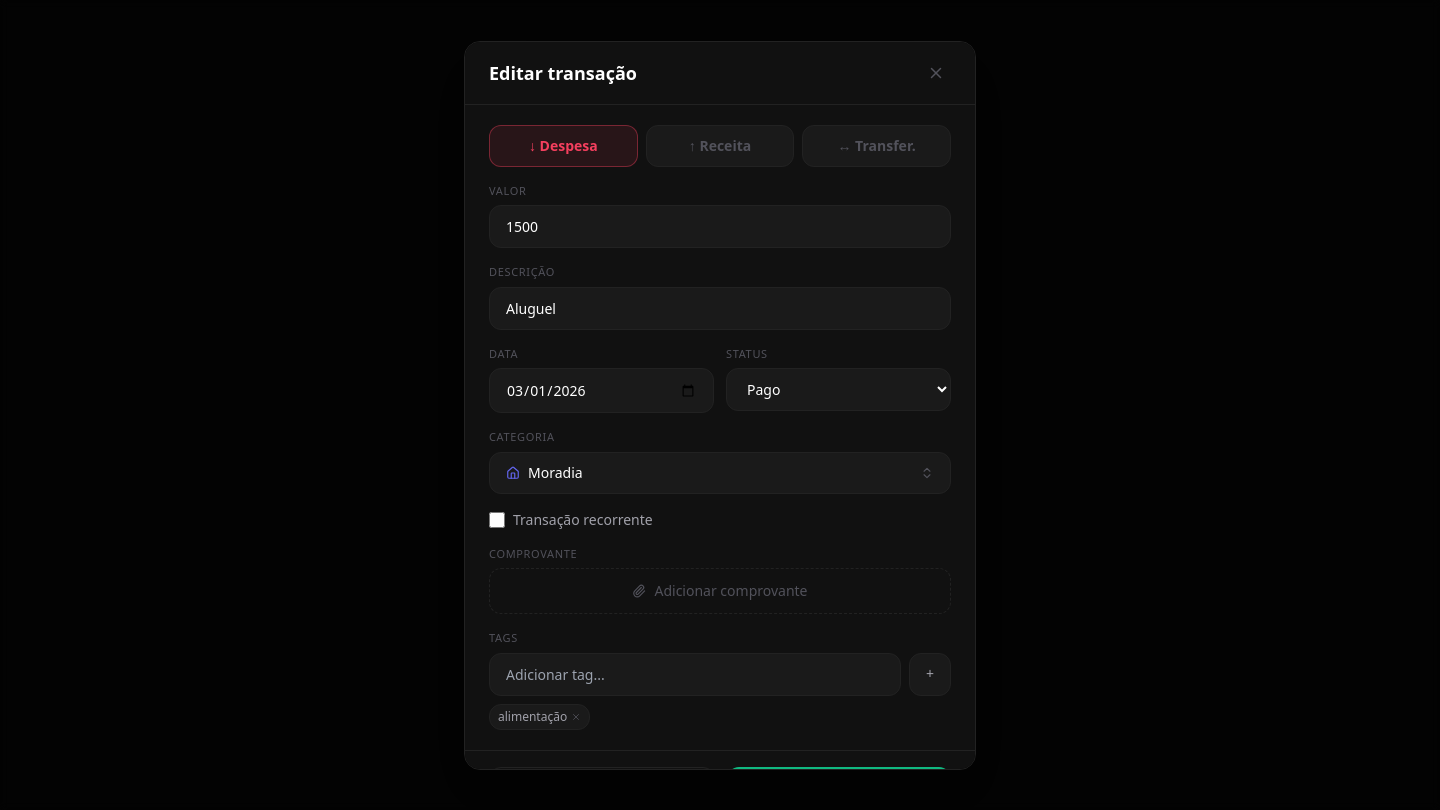
Test: TransactionForm › deve remover tag ao clicar no botão de remover tag
The image size is (1440, 810).
Check: the text "alimentação" is shown, box [489,704,590,730]
Click the button without text next to "alimentação" at (576, 716), box [571,712,581,722]
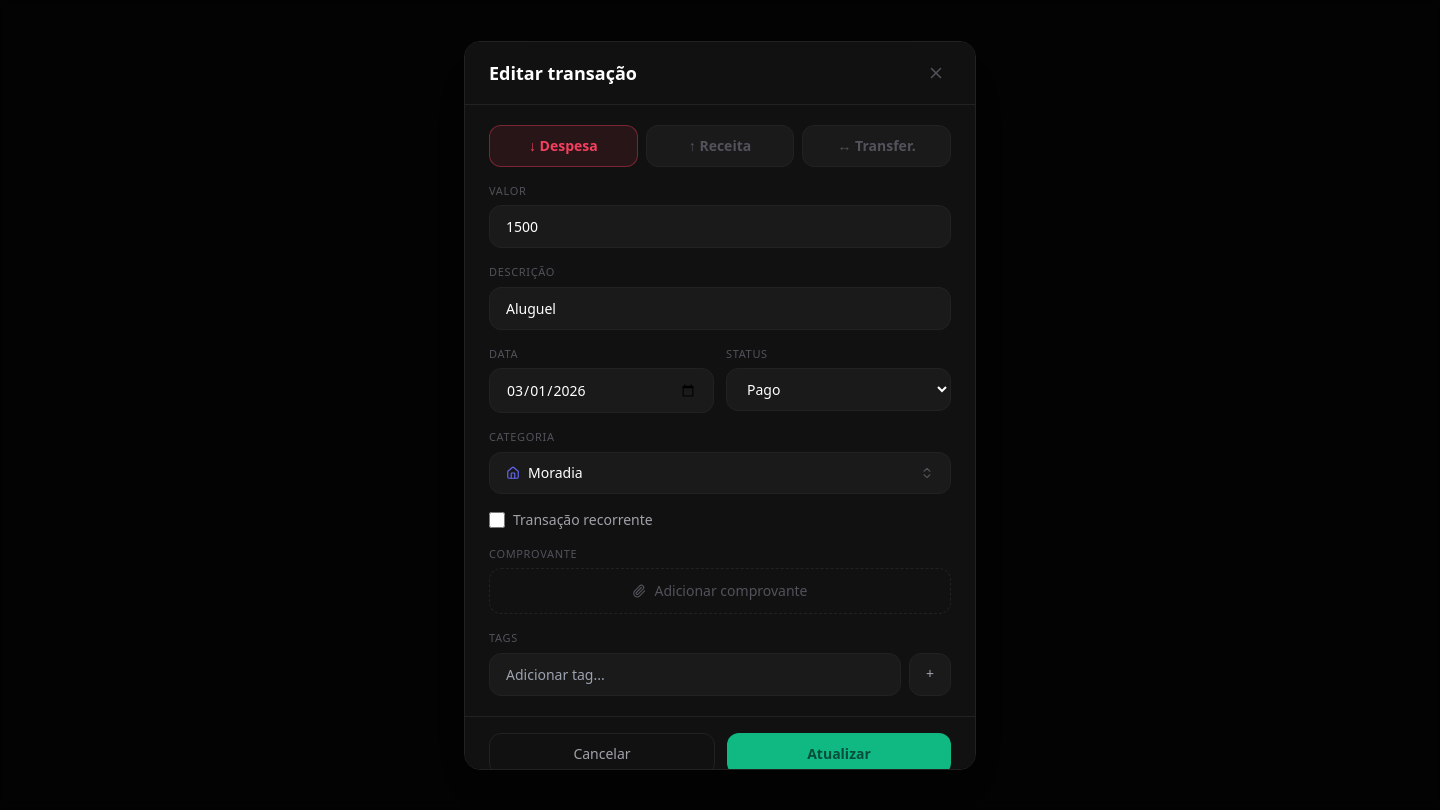
Check: the text "alimentação" is gone
